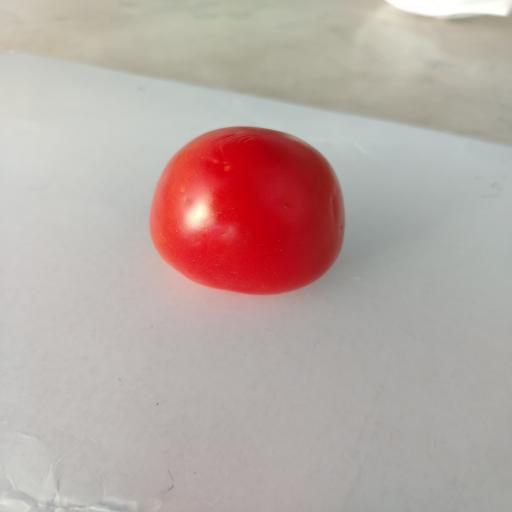ripe: (150, 127, 345, 294)
